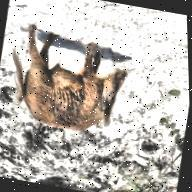boar: (0, 21, 135, 141)
